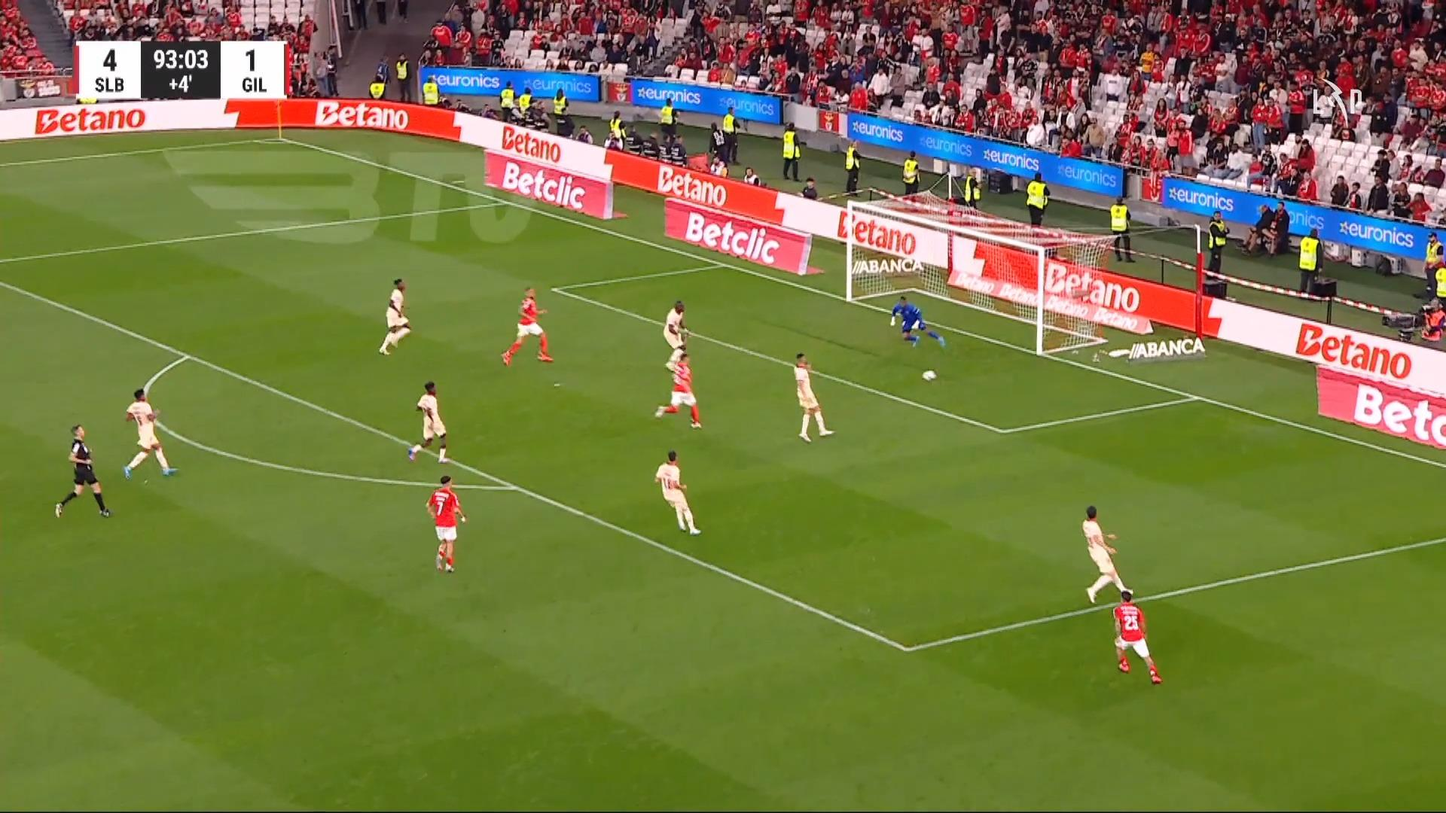ball: (921, 370, 936, 381)
goalkeeper: (889, 294, 947, 349)
player: (122, 388, 178, 480), (1081, 504, 1131, 604), (1112, 589, 1162, 684), (500, 287, 554, 367), (654, 449, 701, 535), (426, 474, 467, 572), (793, 352, 835, 443), (654, 349, 702, 428), (406, 380, 450, 464), (377, 277, 411, 355), (661, 299, 688, 370)
referee: (53, 424, 111, 519)
